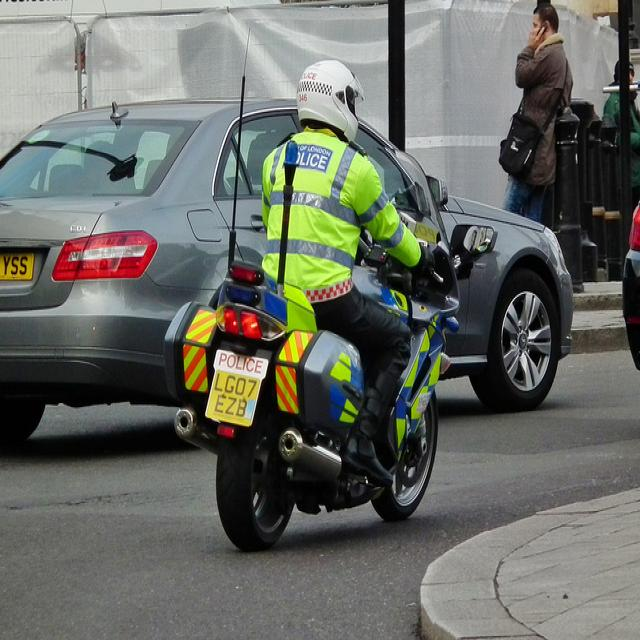motor: (169, 171, 462, 546)
